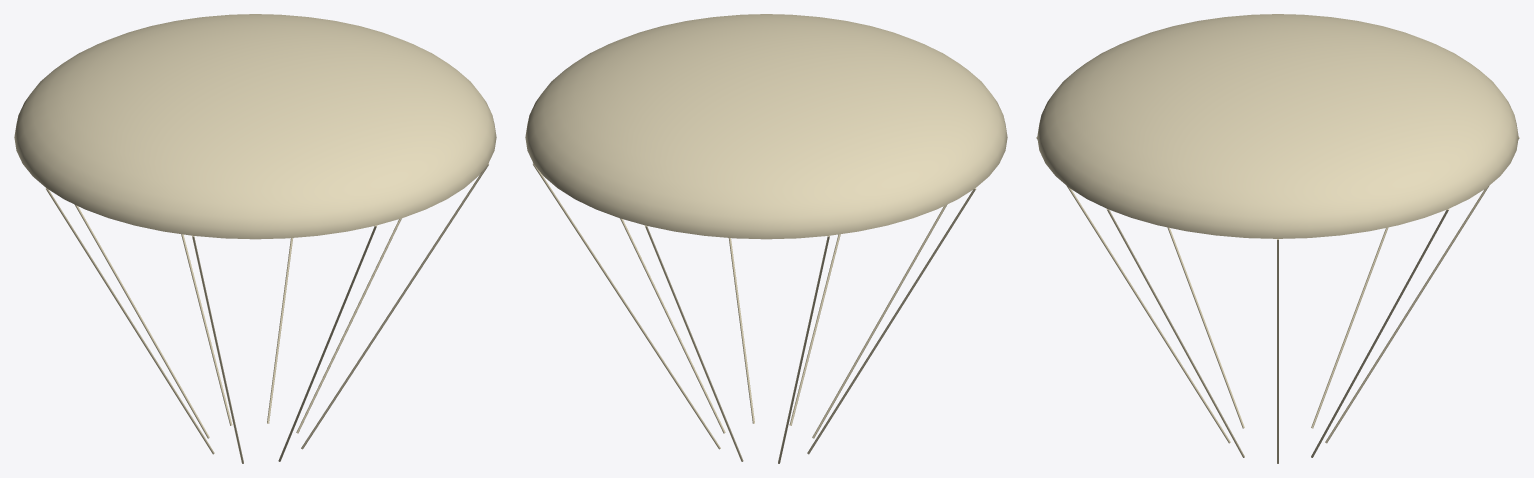
File: SM_SupplyCanopy.glb
The picture shows the model from 3 angles, left to right: view 1: azimuth 30°, elevation 25°; view 2: azimuth 150°, elevation 25°; view 3: azimuth 270°, elevation 25°; orthographic projection.
Visible parts, largest first — view 1: SM_SupplyCanopy; view 2: SM_SupplyCanopy; view 3: SM_SupplyCanopy.
Part boxes in pixels (bbox=[...]): SM_SupplyCanopy: bbox=[14, 14, 496, 463]; SM_SupplyCanopy: bbox=[525, 14, 1007, 463]; SM_SupplyCanopy: bbox=[1036, 14, 1519, 463].
Bounding box in the file's own units: 5.02 × 4.31 × 5.02.
